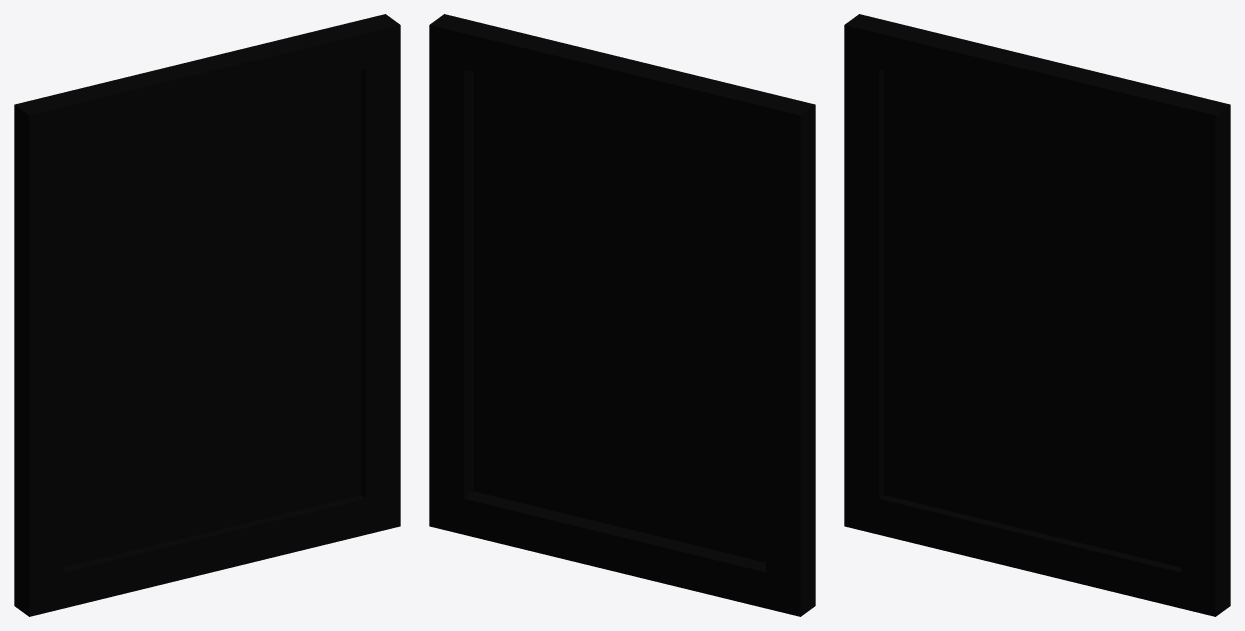
File: SM_portrait_lady.fbx
3 views of the same model, side by side, from view 1: azimuth 30°, elevation 25°; view 2: azimuth 150°, elevation 25°; view 3: azimuth 330°, elevation 25° (orthographic).
Visible parts, largest first — view 1: portrait_lady; view 2: portrait_lady; view 3: portrait_lady.
Part boxes in pixels (x1=…): portrait_lady: x1=14, y1=14, x2=400, y2=616; portrait_lady: x1=429, y1=14, x2=815, y2=616; portrait_lady: x1=844, y1=14, x2=1230, y2=616.
Size of the model in its own units: 0.86 by 1.11 by 0.06.
